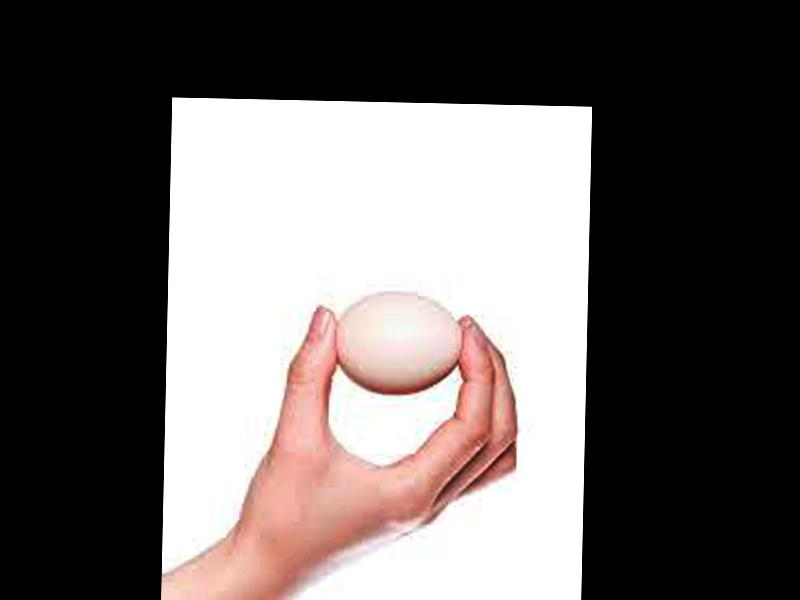Eggs: (332, 290, 464, 396)
